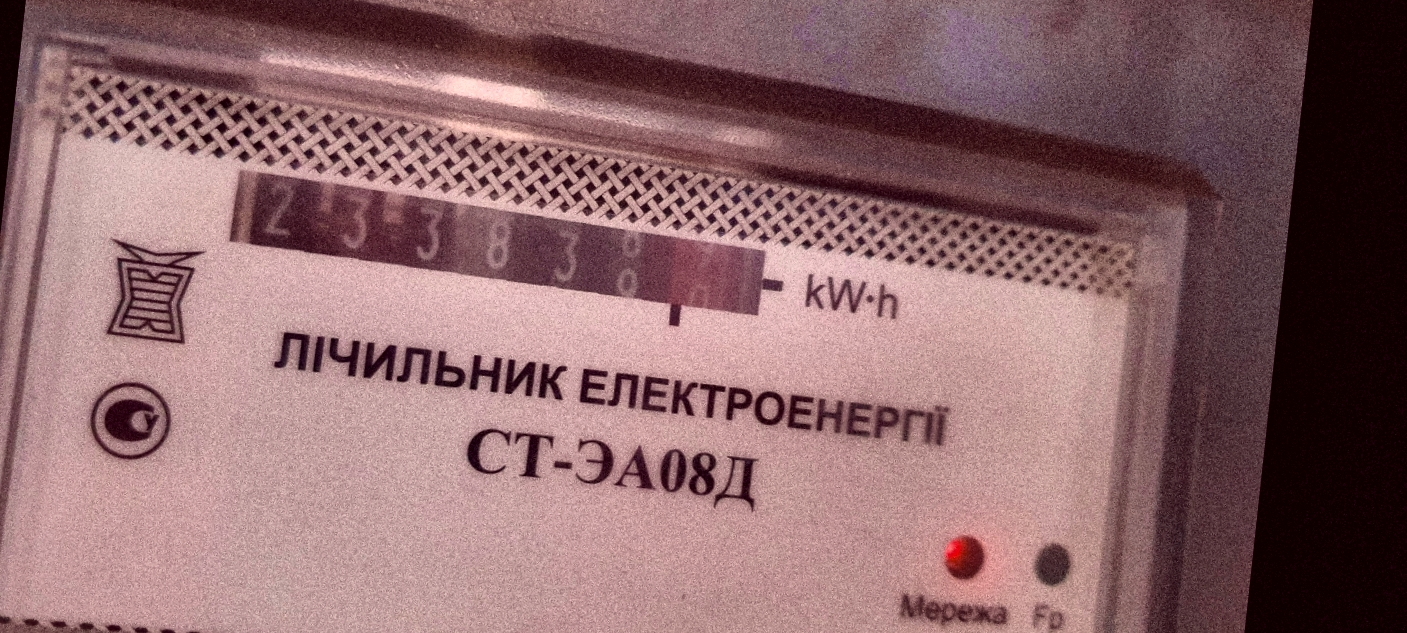0: (683, 278, 713, 315)
2: (257, 176, 302, 240)
3: (406, 199, 448, 266), (338, 190, 372, 251), (549, 224, 583, 284)
8: (478, 212, 517, 273), (617, 225, 647, 260)
9: (686, 235, 720, 276), (611, 263, 643, 302)
screen: (193, 144, 799, 363)
